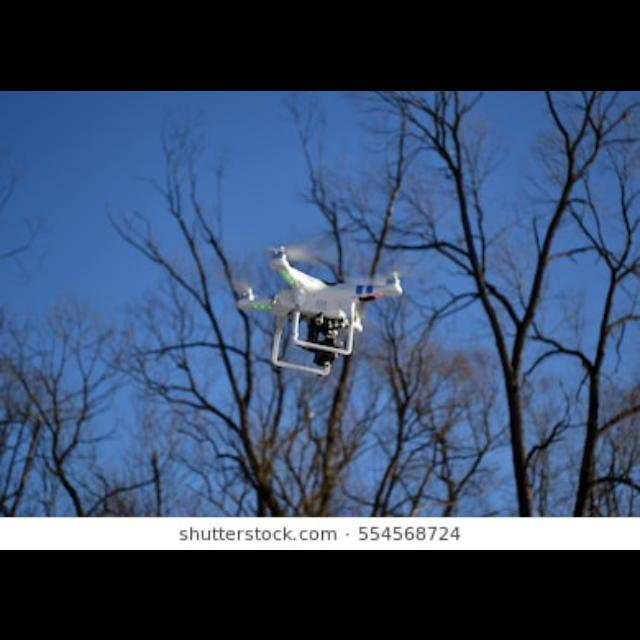Drone: (220, 227, 436, 396)
